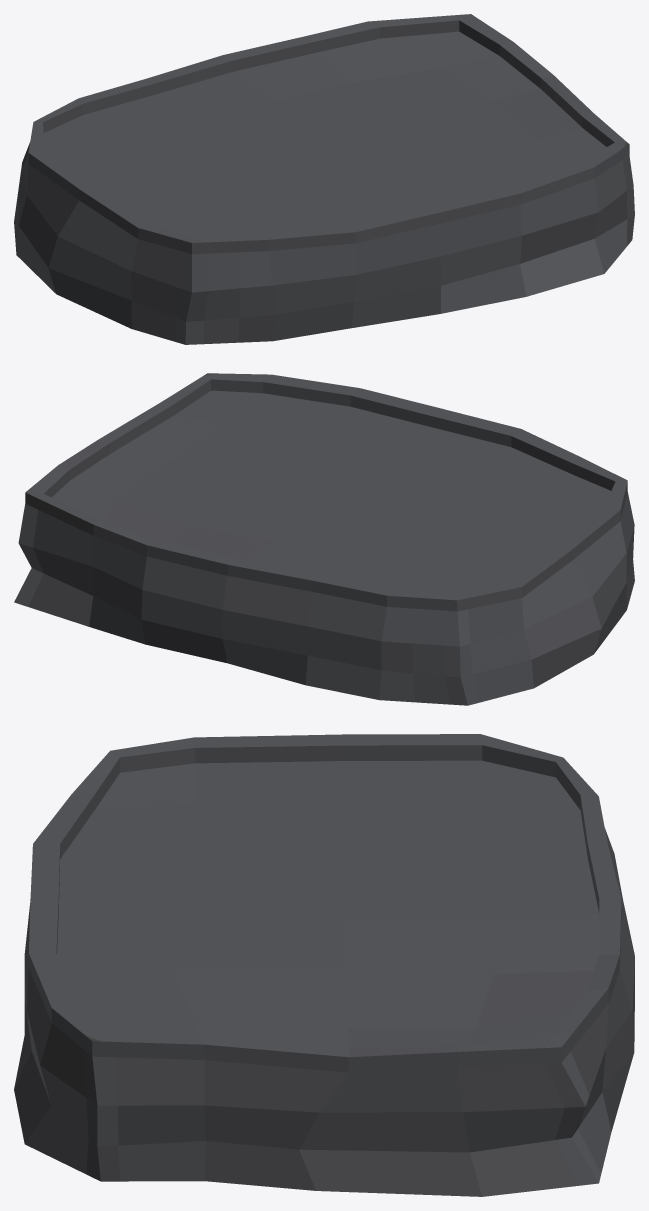
Rendered from Slab3.glb.
3 renders of one model, top to bottom at view 1: azimuth 30°, elevation 25°; view 2: azimuth 150°, elevation 25°; view 3: azimuth 270°, elevation 25°, orthographic. The views are drawn at different scales.
Parts seen in each view (by area): view 1: Slab3; view 2: Slab3; view 3: Slab3.
Part boxes in pixels (x1,y1,x2,y2): Slab3: (14, 14, 634, 344); Slab3: (14, 373, 634, 705); Slab3: (14, 734, 634, 1196).
Size of the model in its own units: 2.77 by 0.5566 by 2.13.
1 material, 1 textured.
